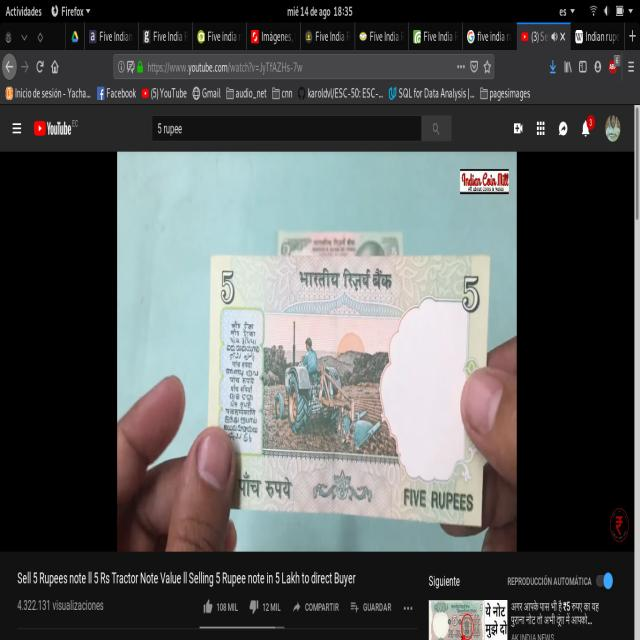5IndianRupees: (210, 256, 484, 518)
